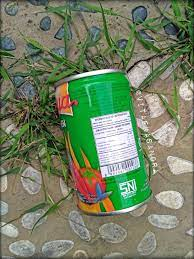metal: (54, 66, 157, 216)
